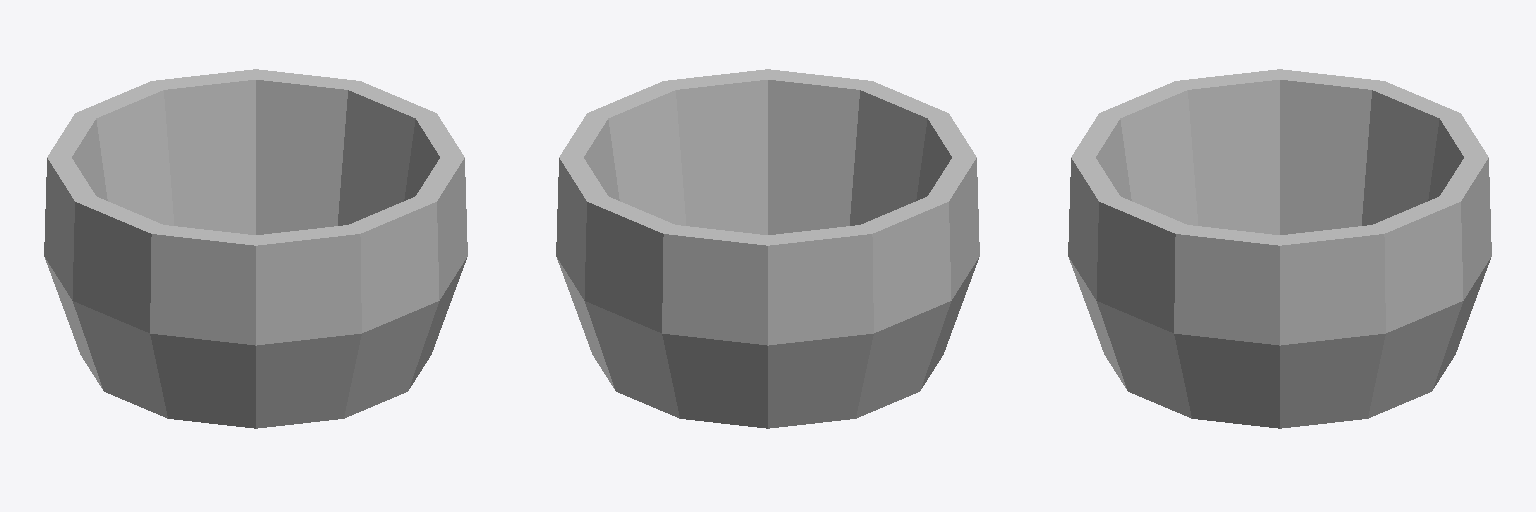
Rendered from CauldronCollider.obj.
3 views of the same model, side by side, from view 1: azimuth 30°, elevation 25°; view 2: azimuth 150°, elevation 25°; view 3: azimuth 270°, elevation 25° (orthographic).
Visible parts, largest first — view 1: Cylinder; view 2: Cylinder; view 3: Cylinder.
Part boxes in pixels (x1,y1,x2,y2): Cylinder: (44,69,467,428); Cylinder: (556,69,979,428); Cylinder: (1068,69,1491,428).
Size of the model in its own units: 2.41 by 1.24 by 2.41.